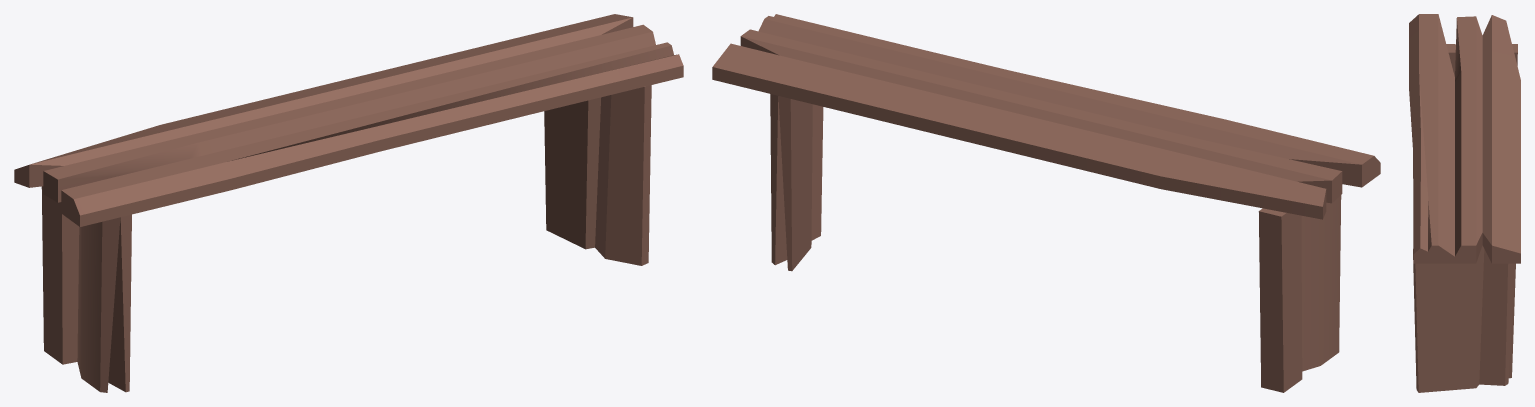
The model's file is SM_Wooden_Bench_01.fbx.
3 views of the same model, side by side, from view 1: azimuth 30°, elevation 25°; view 2: azimuth 150°, elevation 25°; view 3: azimuth 270°, elevation 25° (orthographic). The views are drawn at different scales.
Parts seen in each view (by area): view 1: Wooden_Bench_01; view 2: Wooden_Bench_01; view 3: Wooden_Bench_01.
Part boxes in pixels (x1,y1,x2,y2): Wooden_Bench_01: (14,14,683,392); Wooden_Bench_01: (712,14,1380,392); Wooden_Bench_01: (1409,14,1520,392).
Bounding box in the file's own units: 70.75 × 22.59 × 14.36.
